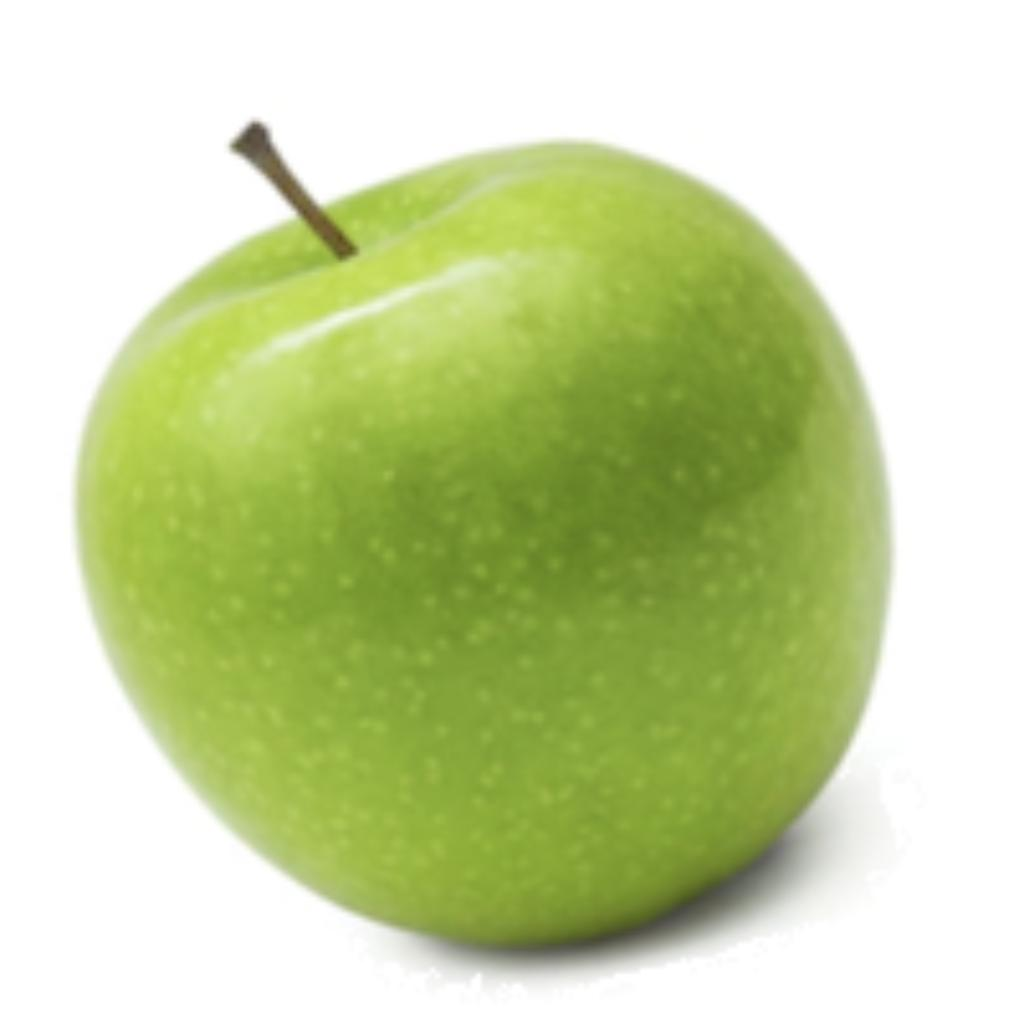apple: (67, 133, 906, 998)
